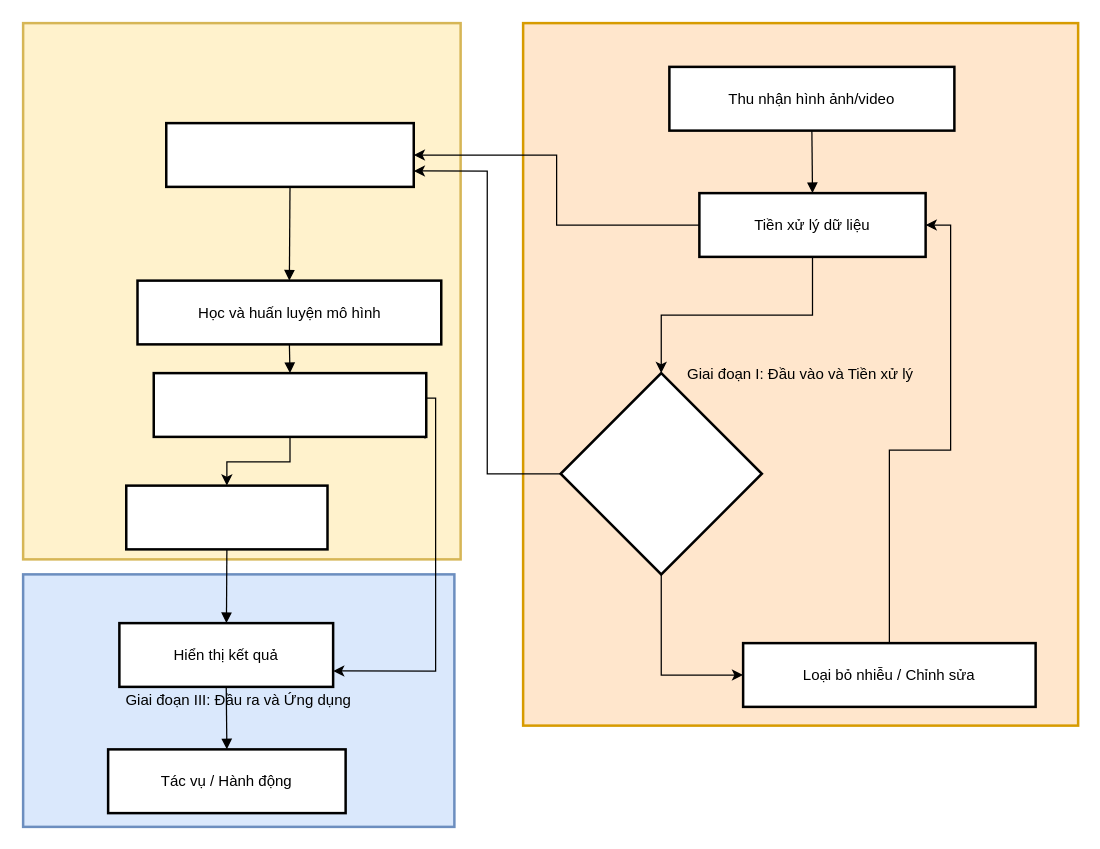
Some shapes in this 1100 by 849 pixel diagram are drawn without their labels. Here are the shapes that lost their labels. From the top down, the centre of each, then its label:
At point 289,154: "Trích xuất đặc trưng".
At point 289,404: "Nhận dạng và Phân loại".
At point 660,473: "Dữ liệu đã sạch?".
At point 226,517: "Đưa ra kết quả".
